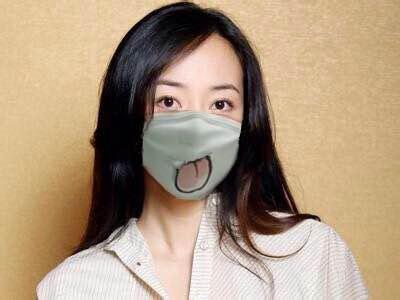OK: (140, 80, 251, 191)
